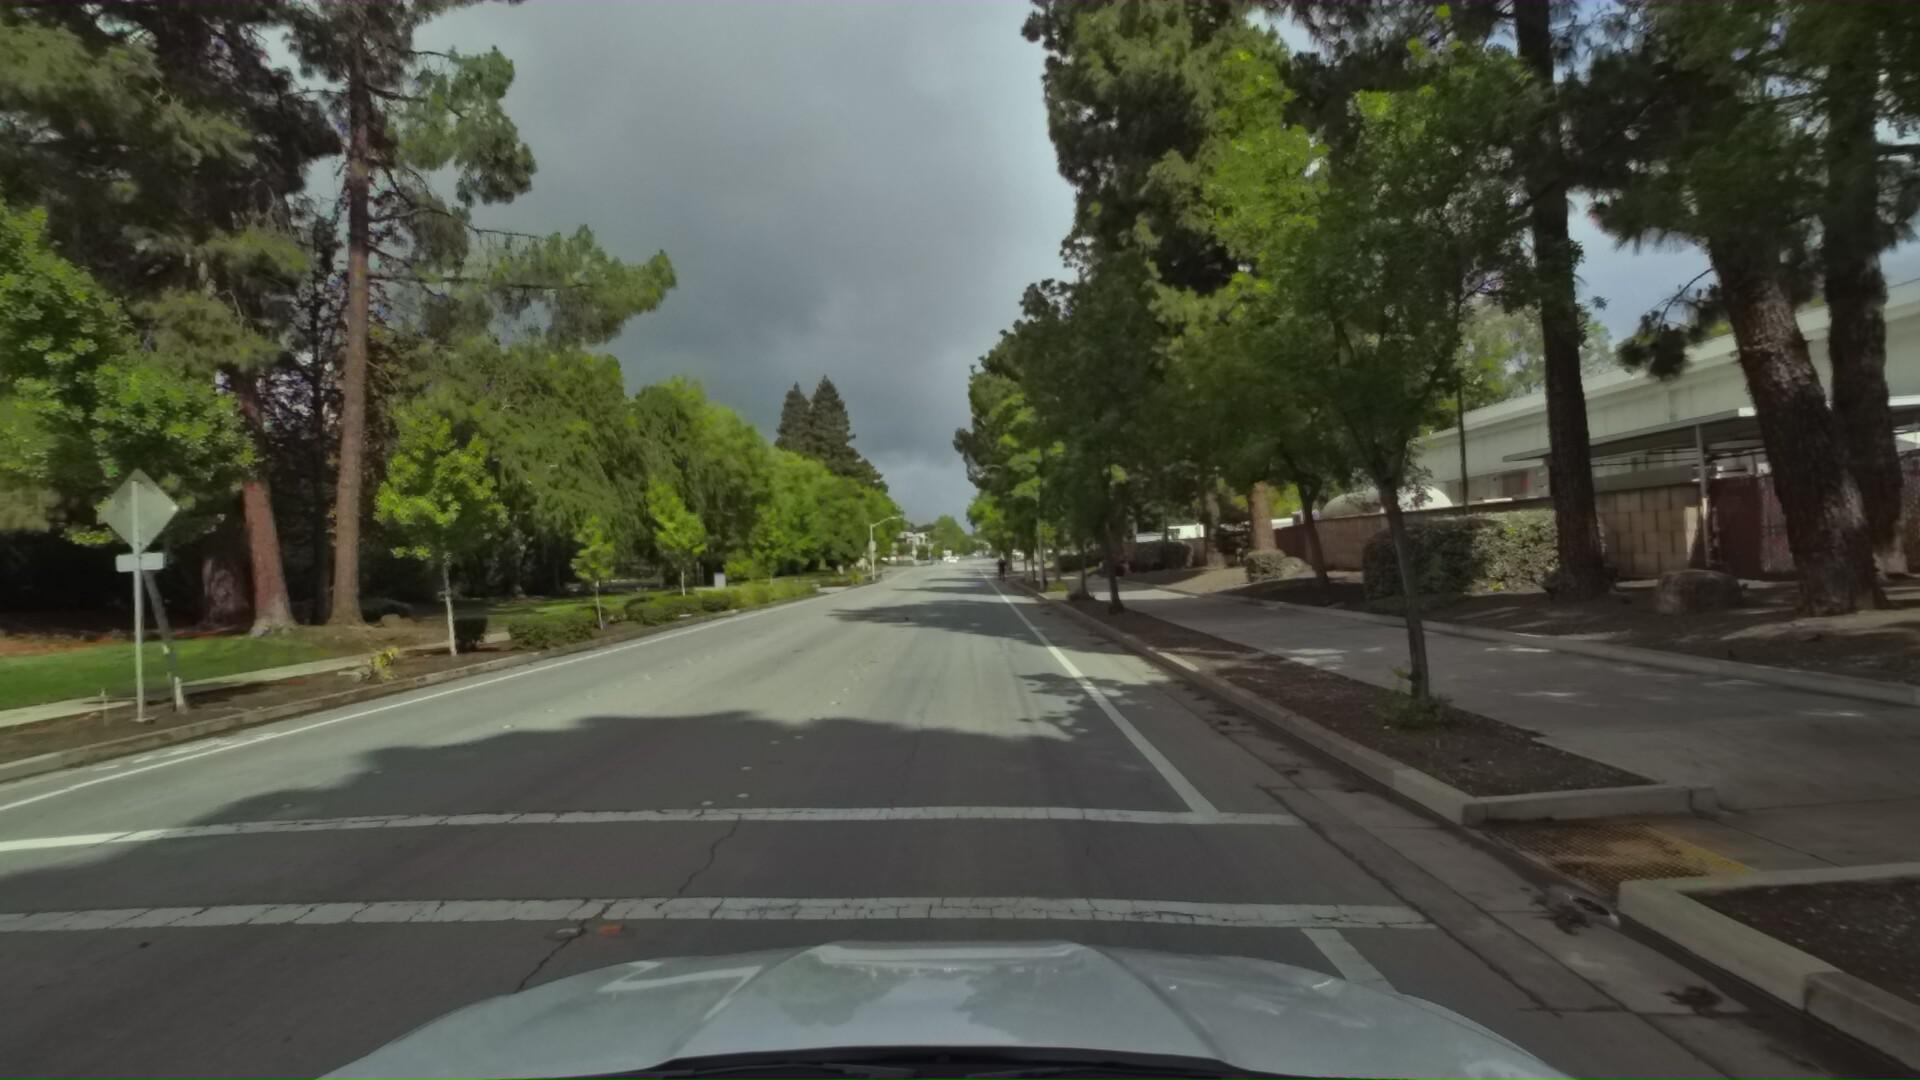bicycle: (992, 553, 1007, 582)
